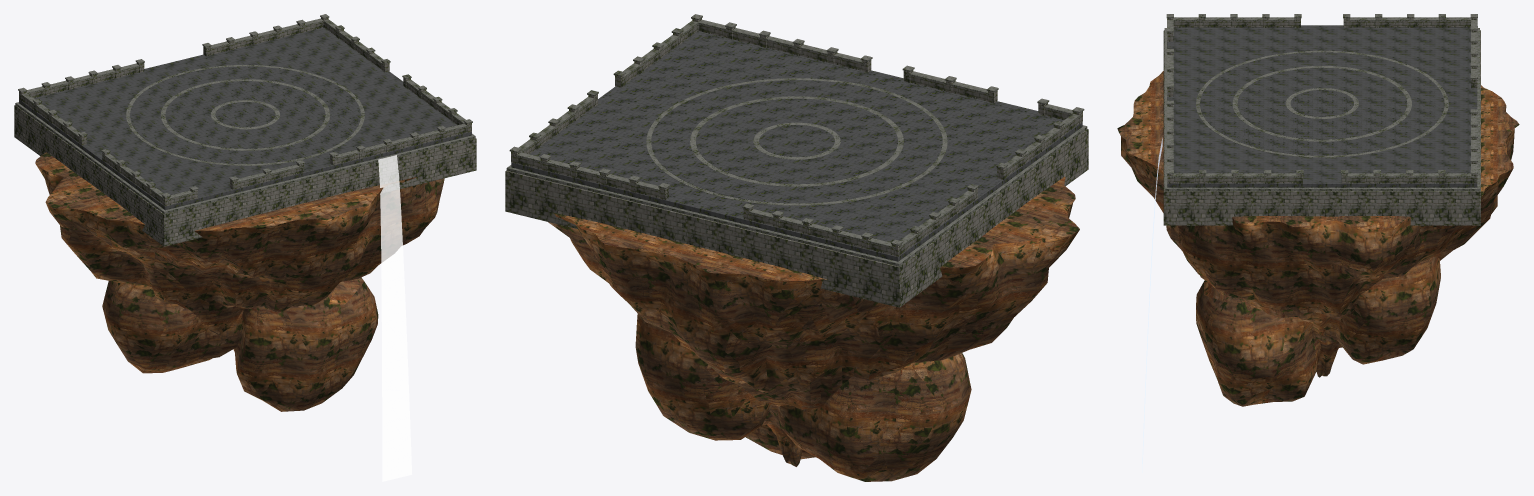
File: Room_Plaza.fbx
3 views of the same model, side by side, from view 1: azimuth 30°, elevation 25°; view 2: azimuth 150°, elevation 25°; view 3: azimuth 270°, elevation 25° (orthographic). The views are drawn at different scales.
Parts seen in each view (by area): view 1: Plaza_Rock_LOD0, Plaza_Structure_LOD0, Plaza_Circle, Waterfall_2; view 2: Plaza_Rock_LOD0, Plaza_Structure_LOD0, Plaza_Circle; view 3: Plaza_Rock_LOD0, Plaza_Structure_LOD0, Plaza_Circle, Waterfall_2.
Part boxes in pixels (bbox=[...]): Plaza_Rock_LOD0: bbox=[35, 152, 444, 411]; Plaza_Structure_LOD0: bbox=[14, 14, 476, 246]; Plaza_Circle: bbox=[126, 65, 364, 165]; Waterfall_2: bbox=[378, 155, 411, 481]; Plaza_Rock_LOD0: bbox=[548, 176, 1079, 481]; Plaza_Structure_LOD0: bbox=[505, 14, 1088, 307]; Plaza_Circle: bbox=[646, 78, 947, 205]; Plaza_Rock_LOD0: bbox=[1117, 71, 1519, 406]; Plaza_Structure_LOD0: bbox=[1163, 14, 1480, 225]; Plaza_Circle: bbox=[1196, 50, 1448, 157]; Waterfall_2: bbox=[1142, 137, 1162, 472].
Size of what is drawn, in the model's own units: 59.19 by 46.86 by 49.35.
